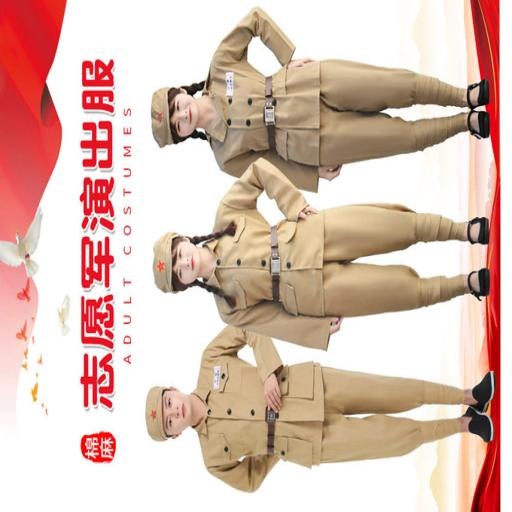north army: (130, 13, 454, 458)
